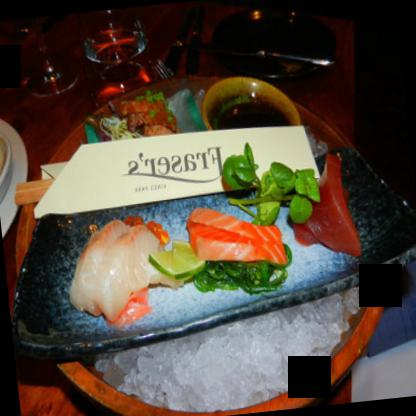salmon: (64, 208, 172, 324), (190, 191, 292, 279)
